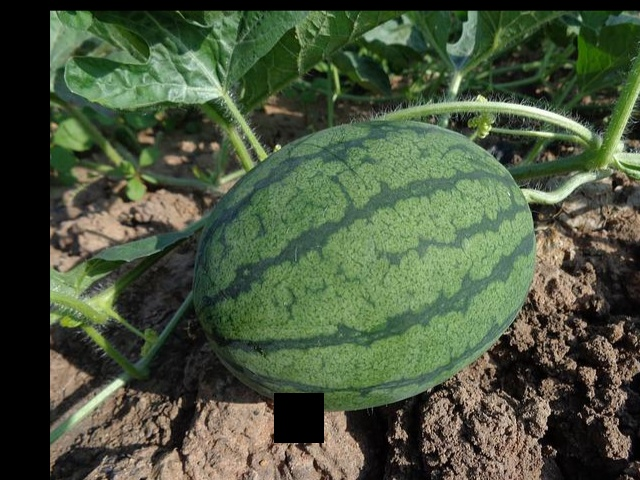watermelon: (193, 110, 533, 408)
